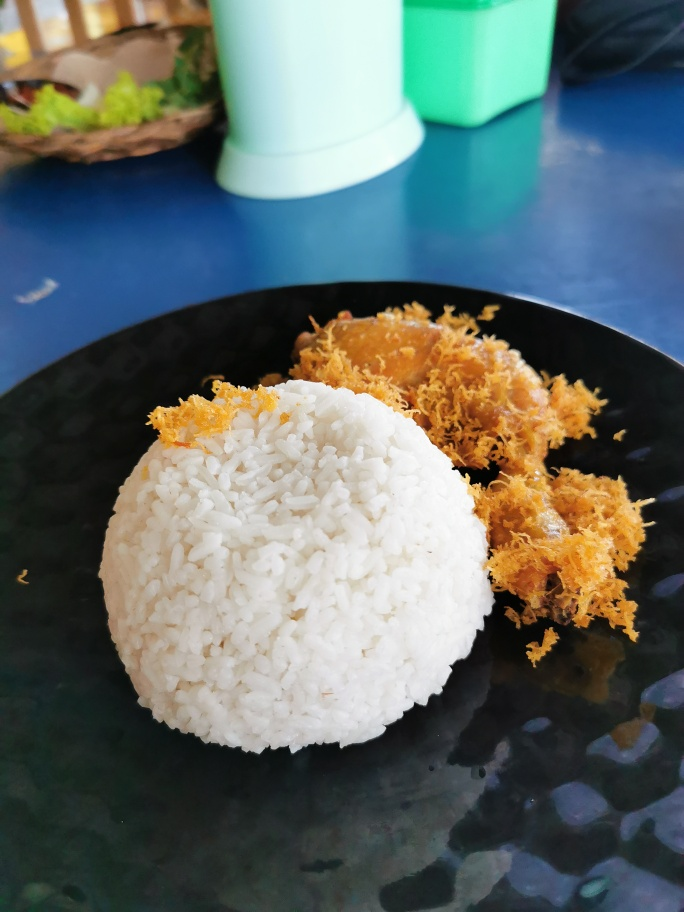ayam goreng: (283, 276, 656, 660)
nasi putih: (75, 371, 501, 755)
